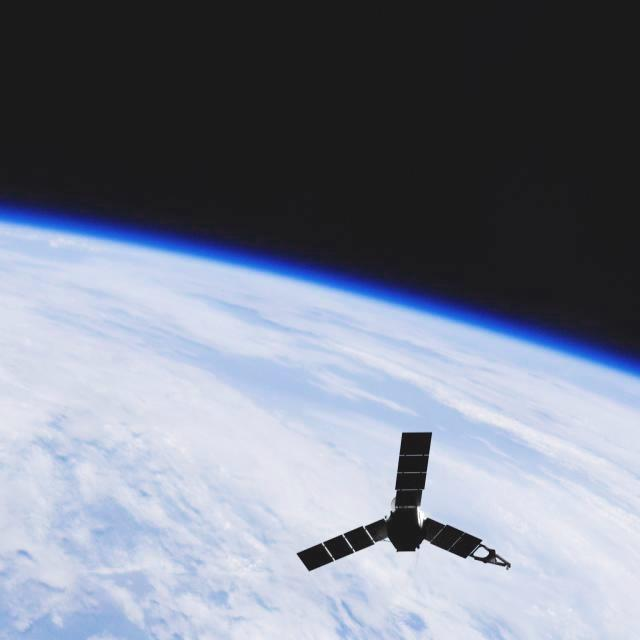medium_debris: (298, 416, 517, 585)
